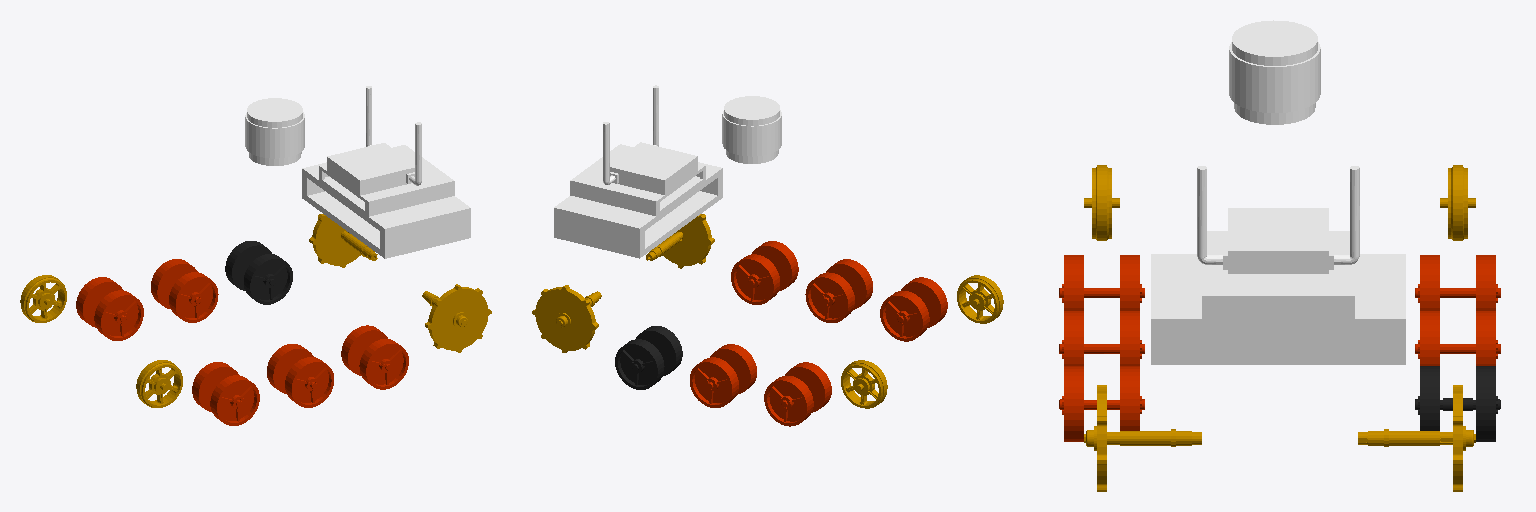
URDF robot description (tracked_vehicle01):
<?xml version="1.0" encoding="utf-8"?>
<!-- This URDF was automatically created by SolidWorks to URDF Exporter! Originally created by [author] ([email redacted]) 
     Commit Version: 1.6.0-4-g7f85cfe  Build Version: 1.6.7995.38578
     For more information, please see http://wiki.ros.org/sw_urdf_exporter -->
<robot
  name="tracked_vehicle01">
  <link
    name="base_link">
    <inertial>
      <origin
        xyz="-0.40719 1.118 1.6289"
        rpy="0 0 0" />
      <mass
        value="71.541" />
      <inertia
        ixx="1.3082"
        ixy="0.025336"
        ixz="0.006337"
        iyy="4.167"
        iyz="0.0003898"
        izz="3.5463" />
    </inertial>
    <visual>
      <origin
        xyz="0 0 0"
        rpy="0 0 0" />
      <geometry>
        <mesh
          filename="package://tracked_vehicle01/meshes/base_link.STL" />
      </geometry>
      <material
        name="">
        <color
          rgba="1 1 1 1" />
      </material>
    </visual>
    <collision>
      <origin
        xyz="0 0 0"
        rpy="0 0 0" />
      <geometry>
        <mesh
          filename="package://tracked_vehicle01/meshes/base_link.STL" />
      </geometry>
    </collision>
  </link>
  <link
    name="wheel1_Link">
    <inertial>
      <origin
        xyz="1.249E-08 -0.031581 7.4203E-05"
        rpy="0 0 0" />
      <mass
        value="0.78706" />
      <inertia
        ixx="0.0021017"
        ixy="-3.9045E-10"
        ixz="1.0314E-10"
        iyy="0.0034145"
        iyz="-1.9413E-06"
        izz="0.0021023" />
    </inertial>
    <visual>
      <origin
        xyz="0 0 0"
        rpy="0 0 0" />
      <geometry>
        <mesh
          filename="package://tracked_vehicle01/meshes/wheel1_Link.STL" />
      </geometry>
      <material
        name="">
        <color
          rgba="0.81176 0.58431 0 1" />
      </material>
    </visual>
    <collision>
      <origin
        xyz="0 0 0"
        rpy="0 0 0" />
      <geometry>
        <mesh
          filename="package://tracked_vehicle01/meshes/wheel1_Link.STL" />
      </geometry>
    </collision>
  </link>
  <joint
    name="wheel1_joint"
    type="continuous">
    <origin
      xyz="0.17257 -1.9927 0.96109"
      rpy="0 0 3.1416" />
    <parent
      link="base_link" />
    <child
      link="wheel1_Link" />
    <axis
      xyz="0 1 0" />
  </joint>
  <link
    name="wheel2_Link">
    <inertial>
      <origin
        xyz="5.3291E-15 -0.075 1.9984E-15"
        rpy="0 0 0" />
      <mass
        value="1.1022" />
      <inertia
        ixx="0.004462"
        ixy="-6.497E-19"
        ixz="-3.9223E-19"
        iyy="0.0031755"
        iyz="-1.0855E-18"
        izz="0.004462" />
    </inertial>
    <visual>
      <origin
        xyz="0 0 0"
        rpy="0 0 0" />
      <geometry>
        <mesh
          filename="package://tracked_vehicle01/meshes/wheel2_Link.STL" />
      </geometry>
      <material
        name="">
        <color
          rgba="0.81176 0.21569 0 1" />
      </material>
    </visual>
    <collision>
      <origin
        xyz="0 0 0"
        rpy="0 0 0" />
      <geometry>
        <mesh
          filename="package://tracked_vehicle01/meshes/wheel2_Link.STL" />
      </geometry>
    </collision>
  </link>
  <joint
    name="wheel2_joint"
    type="continuous">
    <origin
      xyz="-0.11742 -2.0517 0.89905"
      rpy="0 0 3.1416" />
    <parent
      link="base_link" />
    <child
      link="wheel2_Link" />
    <axis
      xyz="0 1 0" />
  </joint>
  <link
    name="wheel3_Link">
    <inertial>
      <origin
        xyz="1.632E-14 -0.075 2.4425E-15"
        rpy="0 0 0" />
      <mass
        value="1.1022" />
      <inertia
        ixx="0.004462"
        ixy="2.1618E-18"
        ixz="-1.236E-18"
        iyy="0.0031755"
        iyz="8.0046E-19"
        izz="0.004462" />
    </inertial>
    <visual>
      <origin
        xyz="0 0 0"
        rpy="0 0 0" />
      <geometry>
        <mesh
          filename="package://tracked_vehicle01/meshes/wheel3_Link.STL" />
      </geometry>
      <material
        name="">
        <color
          rgba="0.81176 0.21569 0 1" />
      </material>
    </visual>
    <collision>
      <origin
        xyz="0 0 0"
        rpy="0 0 0" />
      <geometry>
        <mesh
          filename="package://tracked_vehicle01/meshes/wheel3_Link.STL" />
      </geometry>
    </collision>
  </link>
  <joint
    name="wheel3_joint"
    type="continuous">
    <origin
      xyz="-0.37742 -2.0517 0.899"
      rpy="0 0 3.1416" />
    <parent
      link="base_link" />
    <child
      link="wheel3_Link" />
    <axis
      xyz="0 1 0" />
  </joint>
  <link
    name="wheel4_Link">
    <inertial>
      <origin
        xyz="-5.218E-15 -0.075 2.4425E-15"
        rpy="0 0 0" />
      <mass
        value="1.1022" />
      <inertia
        ixx="0.004462"
        ixy="2.2277E-18"
        ixz="-5.7819E-19"
        iyy="0.0031755"
        iyz="-1.0322E-18"
        izz="0.004462" />
    </inertial>
    <visual>
      <origin
        xyz="0 0 0"
        rpy="0 0 0" />
      <geometry>
        <mesh
          filename="package://tracked_vehicle01/meshes/wheel4_Link.STL" />
      </geometry>
      <material
        name="">
        <color
          rgba="0.81176 0.21569 0 1" />
      </material>
    </visual>
    <collision>
      <origin
        xyz="0 0 0"
        rpy="0 0 0" />
      <geometry>
        <mesh
          filename="package://tracked_vehicle01/meshes/wheel4_Link.STL" />
      </geometry>
    </collision>
  </link>
  <joint
    name="wheel4_joint"
    type="continuous">
    <origin
      xyz="-0.63742 -2.0517 0.89896"
      rpy="0 0 3.1416" />
    <parent
      link="base_link" />
    <child
      link="wheel4_Link" />
    <axis
      xyz="0 1 0" />
  </joint>
  <link
    name="wheel5_Link">
    <inertial>
      <origin
        xyz="7.9936E-15 -0.019999 -4.885E-15"
        rpy="0 0 0" />
      <mass
        value="0.33834" />
      <inertia
        ixx="0.00052483"
        ixy="2.377E-20"
        ixz="4.9632E-19"
        iyy="0.0009698"
        iyz="2.4922E-21"
        izz="0.00052483" />
    </inertial>
    <visual>
      <origin
        xyz="0 0 0"
        rpy="0 0 0" />
      <geometry>
        <mesh
          filename="package://tracked_vehicle01/meshes/wheel5_Link.STL" />
      </geometry>
      <material
        name="">
        <color
          rgba="0.81176 0.58431 0 1" />
      </material>
    </visual>
    <collision>
      <origin
        xyz="0 0 0"
        rpy="0 0 0" />
      <geometry>
        <mesh
          filename="package://tracked_vehicle01/meshes/wheel5_Link.STL" />
      </geometry>
    </collision>
  </link>
  <joint
    name="wheel5_jointk"
    type="continuous">
    <origin
      xyz="-0.86837 -1.9967 0.98593"
      rpy="0 0 3.1416" />
    <parent
      link="base_link" />
    <child
      link="wheel5_Link" />
    <axis
      xyz="0 1 0" />
  </joint>
  <link
    name="wheel6_Link">
    <inertial>
      <origin
        xyz="4.6629E-15 0.019999 1.2212E-15"
        rpy="0 0 0" />
      <mass
        value="0.33834" />
      <inertia
        ixx="0.00052483"
        ixy="1.2629E-19"
        ixz="3.8129E-19"
        iyy="0.0009698"
        iyz="-5.7781E-19"
        izz="0.00052483" />
    </inertial>
    <visual>
      <origin
        xyz="0 0 0"
        rpy="0 0 0" />
      <geometry>
        <mesh
          filename="package://tracked_vehicle01/meshes/wheel6_Link.STL" />
      </geometry>
      <material
        name="">
        <color
          rgba="0.81176 0.58431 0 1" />
      </material>
    </visual>
    <collision>
      <origin
        xyz="0 0 0"
        rpy="0 0 0" />
      <geometry>
        <mesh
          filename="package://tracked_vehicle01/meshes/wheel6_Link.STL" />
      </geometry>
    </collision>
  </link>
  <joint
    name="wheel6_joint"
    type="continuous">
    <origin
      xyz="-0.86837 -1.2567 0.98593"
      rpy="0 0 3.1416" />
    <parent
      link="base_link" />
    <child
      link="wheel6_Link" />
    <axis
      xyz="0 1 0" />
  </joint>
  <link
    name="wheel7_Link">
    <inertial>
      <origin
        xyz="1.2657E-14 0.075 2.3315E-15"
        rpy="0 0 0" />
      <mass
        value="1.1022" />
      <inertia
        ixx="0.004462"
        ixy="2.117E-18"
        ixz="1.2679E-19"
        iyy="0.0031755"
        iyz="-6.2841E-19"
        izz="0.004462" />
    </inertial>
    <visual>
      <origin
        xyz="0 0 0"
        rpy="0 0 0" />
      <geometry>
        <mesh
          filename="package://tracked_vehicle01/meshes/wheel7_Link.STL" />
      </geometry>
      <material
        name="">
        <color
          rgba="0.81176 0.21569 0 1" />
      </material>
    </visual>
    <collision>
      <origin
        xyz="0 0 0"
        rpy="0 0 0" />
      <geometry>
        <mesh
          filename="package://tracked_vehicle01/meshes/wheel7_Link.STL" />
      </geometry>
    </collision>
  </link>
  <joint
    name="wheel7_joint"
    type="continuous">
    <origin
      xyz="-0.63742 -1.2017 0.89896"
      rpy="0 0 3.1416" />
    <parent
      link="base_link" />
    <child
      link="wheel7_Link" />
    <axis
      xyz="0 -1 0" />
  </joint>
  <link
    name="wheel8_Link">
    <inertial>
      <origin
        xyz="-1.5543E-15 0.075 2.1094E-15"
        rpy="0 0 0" />
      <mass
        value="1.1022" />
      <inertia
        ixx="0.004462"
        ixy="-1.2067E-18"
        ixz="-2.1126E-19"
        iyy="0.0031755"
        iyz="-1.0203E-19"
        izz="0.004462" />
    </inertial>
    <visual>
      <origin
        xyz="0 0 0"
        rpy="0 0 0" />
      <geometry>
        <mesh
          filename="package://tracked_vehicle01/meshes/wheel8_Link.STL" />
      </geometry>
      <material
        name="">
        <color
          rgba="0.81176 0.21569 0 1" />
      </material>
    </visual>
    <collision>
      <origin
        xyz="0 0 0"
        rpy="0 0 0" />
      <geometry>
        <mesh
          filename="package://tracked_vehicle01/meshes/wheel8_Link.STL" />
      </geometry>
    </collision>
  </link>
  <joint
    name="wheel8_joint"
    type="continuous">
    <origin
      xyz="-0.37742 -1.2017 0.899"
      rpy="0 0 3.1416" />
    <parent
      link="base_link" />
    <child
      link="wheel8_Link" />
    <axis
      xyz="0 -1 0" />
  </joint>
  <link
    name="wheel9_Link">
    <inertial>
      <origin
        xyz="1.0381E-08 0.075 6.5657E-05"
        rpy="0 0 0" />
      <mass
        value="1.1155" />
      <inertia
        ixx="0.0044652"
        ixy="-3.4527E-19"
        ixz="2.0986E-10"
        iyy="0.0031779"
        iyz="1.7866E-18"
        izz="0.0044665" />
    </inertial>
    <visual>
      <origin
        xyz="0 0 0"
        rpy="0 0 0" />
      <geometry>
        <mesh
          filename="package://tracked_vehicle01/meshes/wheel9_Link.STL" />
      </geometry>
      <material
        name="">
        <color
          rgba="0.18039 0.18039 0.18039 1" />
      </material>
    </visual>
    <collision>
      <origin
        xyz="0 0 0"
        rpy="0 0 0" />
      <geometry>
        <mesh
          filename="package://tracked_vehicle01/meshes/wheel9_Link.STL" />
      </geometry>
    </collision>
  </link>
  <joint
    name="wheel9_joint"
    type="continuous">
    <origin
      xyz="-0.11742 -1.2017 0.89905"
      rpy="0 0 3.1416" />
    <parent
      link="base_link" />
    <child
      link="wheel9_Link" />
    <axis
      xyz="0 -1 0" />
  </joint>
  <link
    name="wheel10_Link">
    <inertial>
      <origin
        xyz="7.4203E-05 0.031581 -1.0974E-08"
        rpy="0 0 0" />
      <mass
        value="0.78706" />
      <inertia
        ixx="0.0021023"
        ixy="1.9413E-06"
        ixz="-8.0629E-11"
        iyy="0.0034145"
        iyz="-2.2342E-10"
        izz="0.0021017" />
    </inertial>
    <visual>
      <origin
        xyz="0 0 0"
        rpy="0 0 0" />
      <geometry>
        <mesh
          filename="package://tracked_vehicle01/meshes/wheel10_Link.STL" />
      </geometry>
      <material
        name="">
        <color
          rgba="0.81176 0.58431 0 1" />
      </material>
    </visual>
    <collision>
      <origin
        xyz="0 0 0"
        rpy="0 0 0" />
      <geometry>
        <mesh
          filename="package://tracked_vehicle01/meshes/wheel10_Link.STL" />
      </geometry>
    </collision>
  </link>
  <joint
    name="wheel510_joint"
    type="continuous">
    <origin
      xyz="0.17257 -1.2607 0.96109"
      rpy="0 0 3.1416" />
    <parent
      link="base_link" />
    <child
      link="wheel10_Link" />
    <axis
      xyz="0 -1 0" />
  </joint>
  <link
    name="radar_Link">
    <inertial>
      <origin
        xyz="2.7756E-16 2.2204E-16 0.076677"
        rpy="0 0 0" />
      <mass
        value="3.6018" />
      <inertia
        ixx="0.013262"
        ixy="-7.4934E-23"
        ixz="1.279E-18"
        iyy="0.013262"
        iyz="1.553E-18"
        izz="0.013876" />
    </inertial>
    <visual>
      <origin
        xyz="0 0 0"
        rpy="0 0 0" />
      <geometry>
        <mesh
          filename="package://tracked_vehicle01/meshes/radar_Link.STL" />
      </geometry>
      <material
        name="">
        <color
          rgba="1 1 1 1" />
      </material>
    </visual>
    <collision>
      <origin
        xyz="0 0 0"
        rpy="0 0 0" />
      <geometry>
        <mesh
          filename="package://tracked_vehicle01/meshes/radar_Link.STL" />
      </geometry>
    </collision>
  </link>
  <joint
    name="radar_joint"
    type="fixed">
    <origin
      xyz="-0.27001 -1.6367 1.472"
      rpy="0 0.00015811 -3.1416" />
    <parent
      link="base_link" />
    <child
      link="radar_Link" />
    <axis
      xyz="0 0 0" />
  </joint>
  <link
    name="GPS_Link">
    <inertial>
      <origin
        xyz="0.093645 -0.36299 0.3864"
        rpy="0 0 0" />
      <mass
        value="2.1661" />
      <inertia
        ixx="0.011976"
        ixy="-4.7061E-18"
        ixz="0.00081281"
        iyy="0.0094436"
        iyz="1.1245E-18"
        izz="0.017601" />
    </inertial>
    <visual>
      <origin
        xyz="0 0 0"
        rpy="0 0 0" />
      <geometry>
        <mesh
          filename="package://tracked_vehicle01/meshes/GPS_Link.STL" />
      </geometry>
      <material
        name="">
        <color
          rgba="1 1 1 1" />
      </material>
    </visual>
    <collision>
      <origin
        xyz="0 0 0"
        rpy="0 0 0" />
      <geometry>
        <mesh
          filename="package://tracked_vehicle01/meshes/GPS_Link.STL" />
      </geometry>
    </collision>
  </link>
  <joint
    name="GPS_joint"
    type="fixed">
    <origin
      xyz="0.17257 -1.9927 0.96109"
      rpy="0 0 3.1416" />
    <parent
      link="base_link" />
    <child
      link="GPS_Link" />
    <axis
      xyz="0 0 0" />
  </joint>
  <link
    name="imu_Link">
    <inertial>
      <origin
        xyz="-0.0054677 4.885E-15 -0.024999"
        rpy="0 0 0" />
      <mass
        value="2.07" />
      <inertia
        ixx="0.018699"
        ixy="-6.5343E-18"
        ixz="2.518E-06"
        iyy="0.017436"
        iyz="2.8627E-18"
        izz="0.034625" />
    </inertial>
    <visual>
      <origin
        xyz="0 0 0"
        rpy="0 0 0" />
      <geometry>
        <mesh
          filename="package://tracked_vehicle01/meshes/imu_Link.STL" />
      </geometry>
      <material
        name="">
        <color
          rgba="1 1 1 1" />
      </material>
    </visual>
    <collision>
      <origin
        xyz="0 0 0"
        rpy="0 0 0" />
      <geometry>
        <mesh
          filename="package://tracked_vehicle01/meshes/imu_Link.STL" />
      </geometry>
    </collision>
  </link>
  <joint
    name="imu_joint"
    type="fixed">
    <origin
      xyz="0.12318 -1.6297 1.3171"
      rpy="0 0 3.1416" />
    <parent
      link="base_link" />
    <child
      link="imu_Link" />
    <axis
      xyz="0 0 0" />
  </joint>
  <link
    name="control_Link">
    <inertial>
      <origin
        xyz="-0.0096163 5.3291E-15 -0.049998"
        rpy="0 0 0" />
      <mass
        value="3.984" />
      <inertia
        ixx="0.10849"
        ixy="-1.1744E-16"
        ixz="4.6873E-06"
        iyy="0.043019"
        iyz="-4.7954E-17"
        izz="0.13814" />
    </inertial>
    <visual>
      <origin
        xyz="0 0 0"
        rpy="0 0 0" />
      <geometry>
        <mesh
          filename="package://tracked_vehicle01/meshes/control_Link.STL" />
      </geometry>
      <material
        name="">
        <color
          rgba="1 1 1 1" />
      </material>
    </visual>
    <collision>
      <origin
        xyz="0 0 0"
        rpy="0 0 0" />
      <geometry>
        <mesh
          filename="package://tracked_vehicle01/meshes/control_Link.STL" />
      </geometry>
    </collision>
  </link>
  <joint
    name="control_joint"
    type="fixed">
    <origin
      xyz="0.12319 -1.6297 1.2671"
      rpy="0 0 3.1416" />
    <parent
      link="base_link" />
    <child
      link="control_Link" />
    <axis
      xyz="0 0 0" />
  </joint>
</robot>

--- Facts derived from the render (not from the file) ---
Views: 3 orthographic renders of the robot side by side, from view 1: azimuth 30°, elevation 25°; view 2: azimuth 150°, elevation 25°; view 3: azimuth 270°, elevation 25°.
Model tracked_vehicle01 with 15 links and 14 joints (10 continuous, 4 fixed), rooted at base_link, posed all joints at 0.
Links seen in each view (by area): view 1: control_Link, GPS_Link, radar_Link, imu_Link, wheel1_Link, wheel4_Link, wheel7_Link, wheel9_Link, wheel2_Link, wheel3_Link, wheel8_Link, wheel10_Link (+2 smaller); view 2: control_Link, GPS_Link, radar_Link, imu_Link, wheel10_Link, wheel9_Link, wheel4_Link, wheel2_Link, wheel3_Link, wheel7_Link, wheel8_Link, wheel1_Link (+2 smaller); view 3: control_Link, GPS_Link, radar_Link, imu_Link, wheel9_Link, wheel2_Link, wheel4_Link, wheel7_Link, wheel3_Link, wheel8_Link, wheel10_Link, wheel1_Link (+2 smaller).
Link boxes in pixels (<box>): control_Link: <box>302,162,470,258</box>; GPS_Link: <box>327,86,421,195</box>; radar_Link: <box>245,98,304,165</box>; imu_Link: <box>319,145,454,216</box>; wheel1_Link: <box>422,284,491,352</box>; wheel4_Link: <box>192,362,259,425</box>; wheel7_Link: <box>76,277,143,340</box>; wheel9_Link: <box>225,241,292,304</box>; wheel2_Link: <box>341,325,408,389</box>; wheel3_Link: <box>267,344,333,407</box>; wheel8_Link: <box>151,259,218,322</box>; wheel10_Link: <box>309,214,377,267</box>; control_Link: <box>554,162,722,258</box>; GPS_Link: <box>603,85,697,194</box>; radar_Link: <box>722,96,781,163</box>; imu_Link: <box>570,144,705,215</box>; wheel10_Link: <box>532,285,601,352</box>; wheel9_Link: <box>615,326,682,389</box>; wheel4_Link: <box>880,277,947,341</box>; wheel2_Link: <box>731,241,798,304</box>; wheel3_Link: <box>805,259,872,322</box>; wheel7_Link: <box>764,362,831,426</box>; wheel8_Link: <box>690,344,756,407</box>; wheel1_Link: <box>646,214,714,268</box>; control_Link: <box>1151,254,1405,364</box>; GPS_Link: <box>1197,166,1359,273</box>; radar_Link: <box>1229,20,1320,124</box>; imu_Link: <box>1202,231,1354,318</box>; wheel9_Link: <box>1415,366,1500,441</box>; wheel2_Link: <box>1059,366,1144,441</box>; wheel4_Link: <box>1059,255,1144,310</box>; wheel7_Link: <box>1415,255,1500,310</box>; wheel3_Link: <box>1059,311,1144,365</box>; wheel8_Link: <box>1415,311,1500,365</box>; wheel10_Link: <box>1358,385,1475,491</box>; wheel1_Link: <box>1084,385,1201,491</box>.
Bounding box of the posed robot: 1.23 × 0.868 × 0.798 m (x, y, z).
14 mesh visuals loaded from 15 distinct referenced files (14 binary STL); not drawn: 1 (reference not matched to a file when rendering).